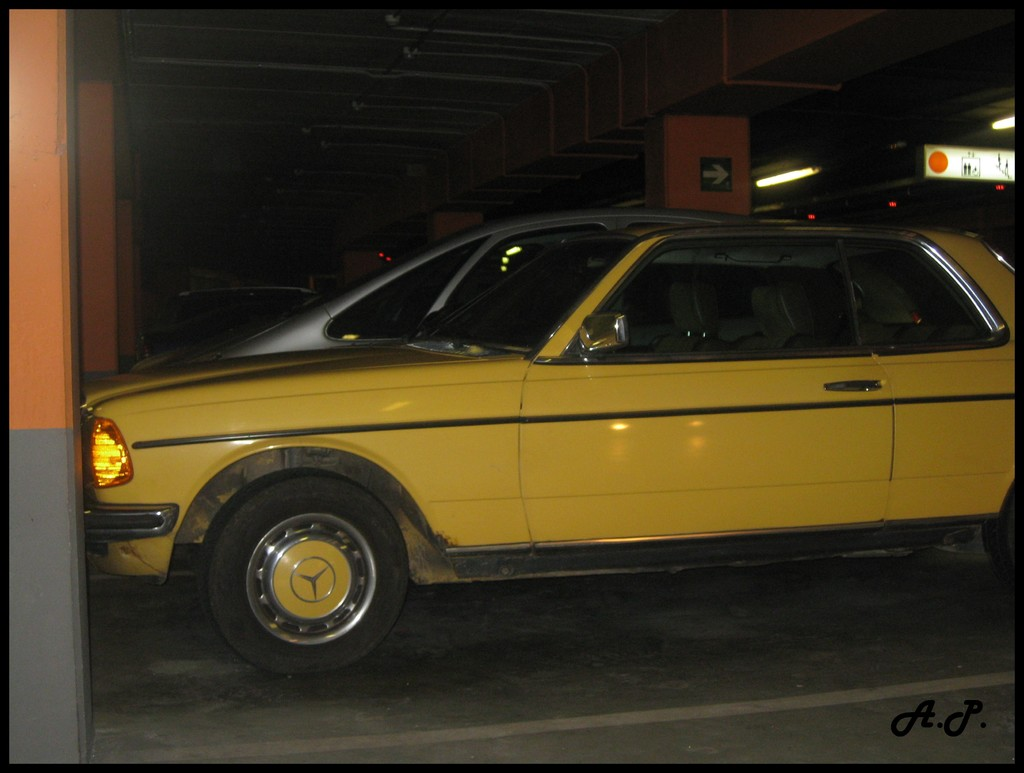Car: (79, 218, 1015, 678), (129, 207, 800, 370)
